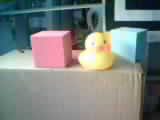duck: (73, 31, 108, 70)
